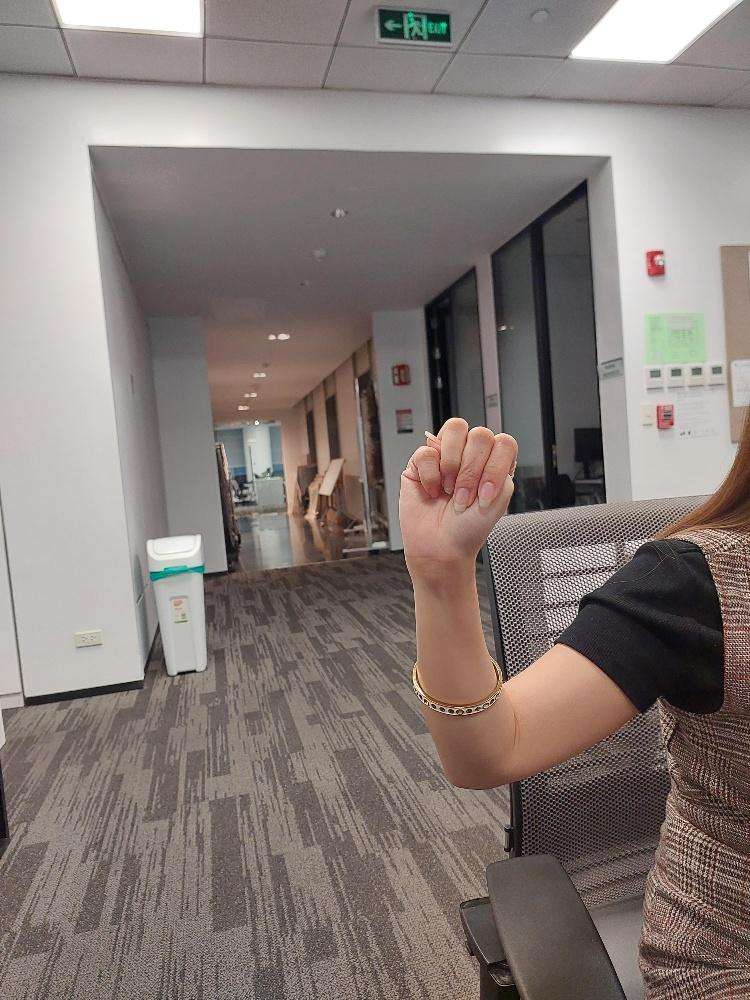m: (396, 413, 521, 570)
